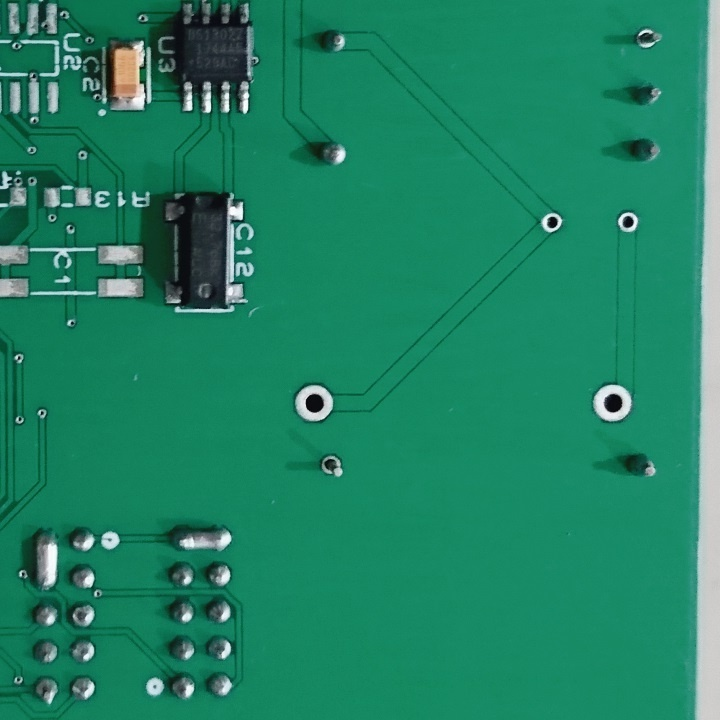F: (587, 378, 634, 427), (291, 380, 338, 425), (632, 23, 665, 52), (318, 450, 346, 479), (614, 206, 640, 237), (539, 208, 564, 238)
P: (166, 523, 236, 558), (30, 526, 61, 594)
